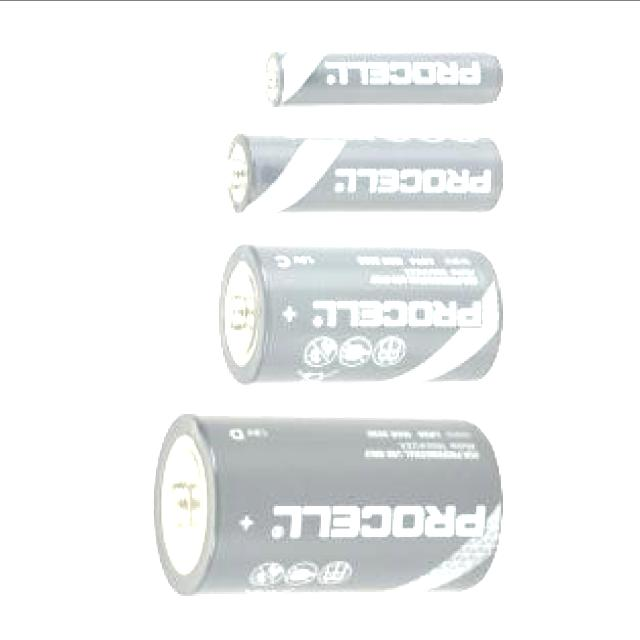AA: (220, 129, 510, 218)
AAA: (260, 45, 509, 110)
